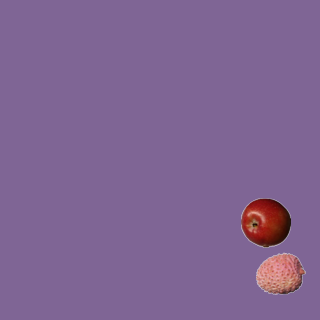Apple Braeburn: (240, 197, 290, 247)
Lychee: (255, 248, 305, 298)
